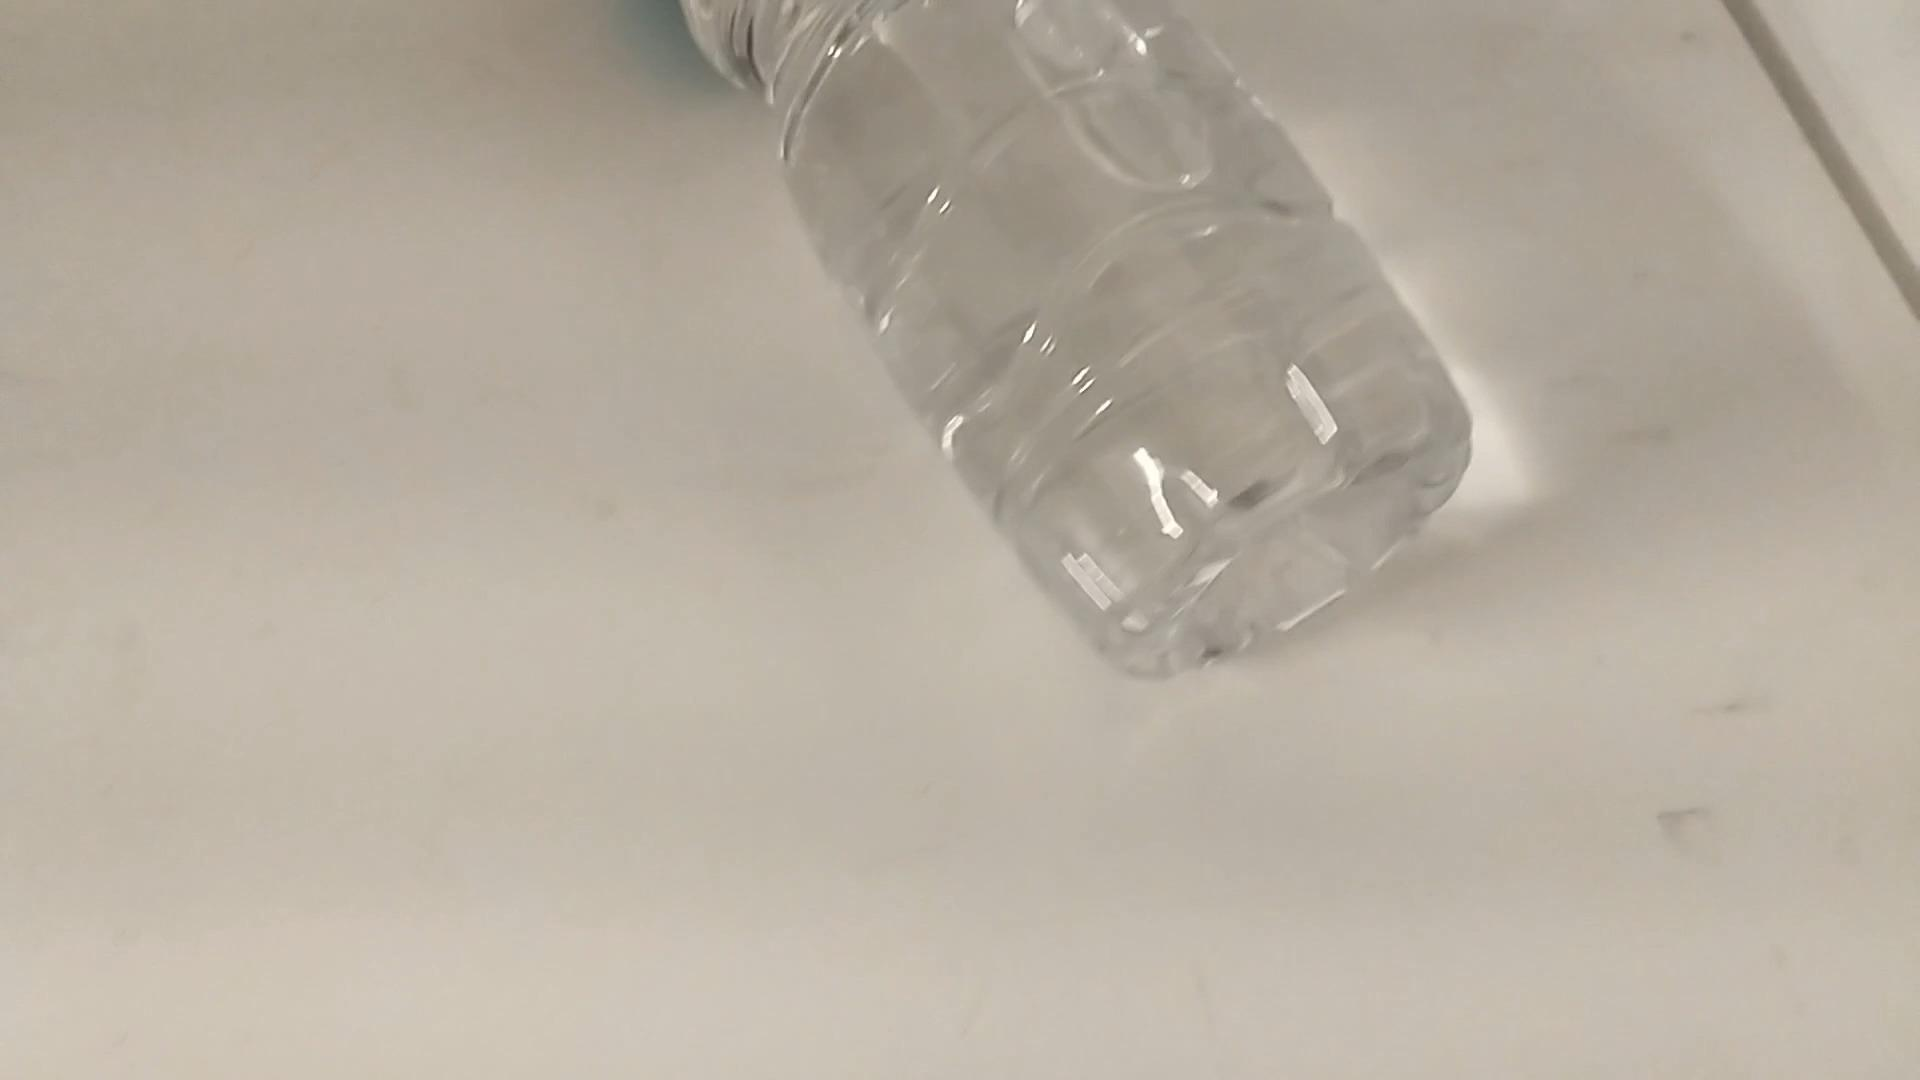agua: (674, 1, 1449, 680)
